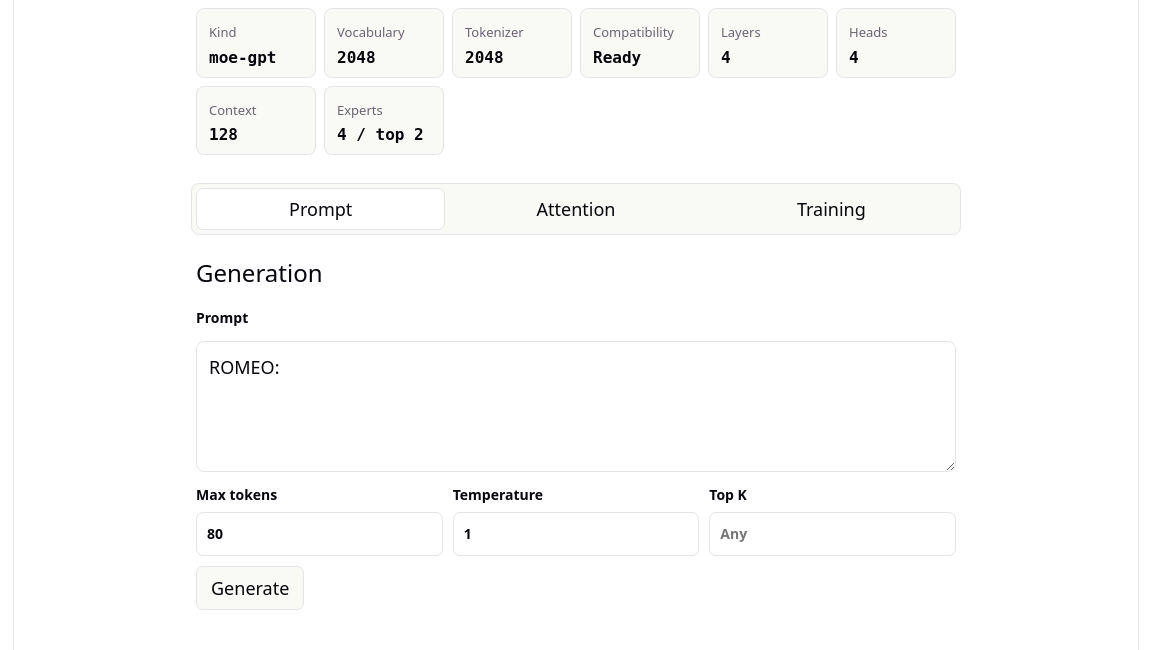
Test: App generation flow › renders expert routing when the generation response includes MoE data
(page scrolled)
Expected: the text "4 / top 2" is shown, [337,125,431,144]
Step 1. Click the button "Generate" → coordinates (250, 588), box [196,566,304,610]
(page scrolled)
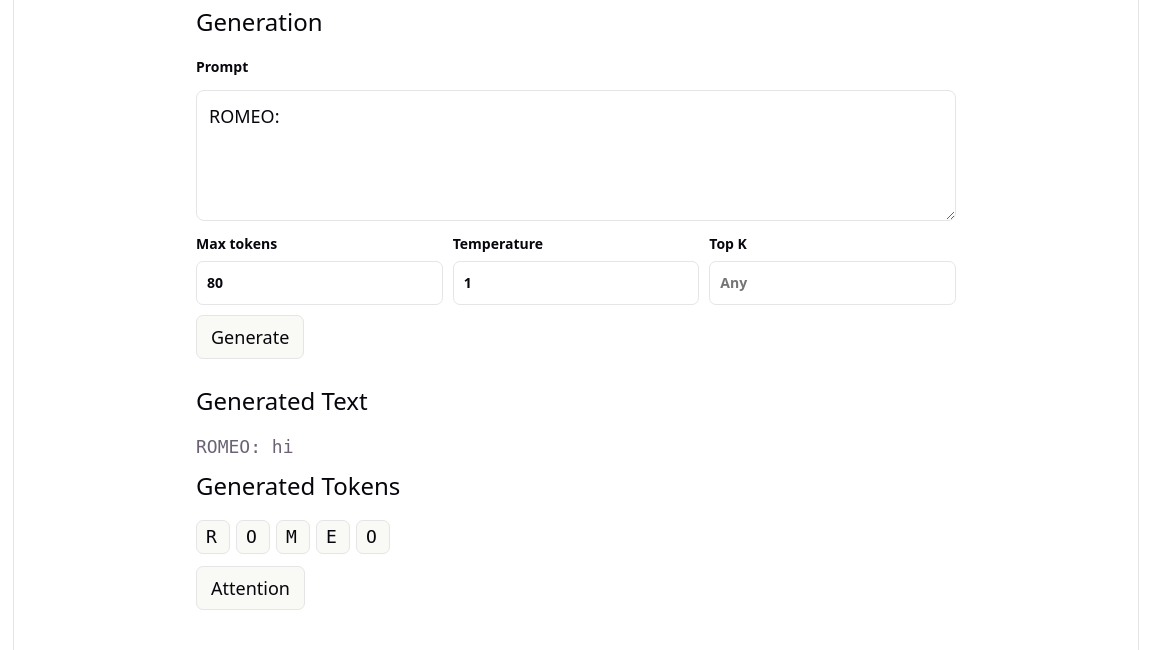
Result: the text "ROMEO: hi" is shown at [196,436,294,457]
Step 2. Click the button "Attention" → coordinates (250, 588), box [196,566,305,610]
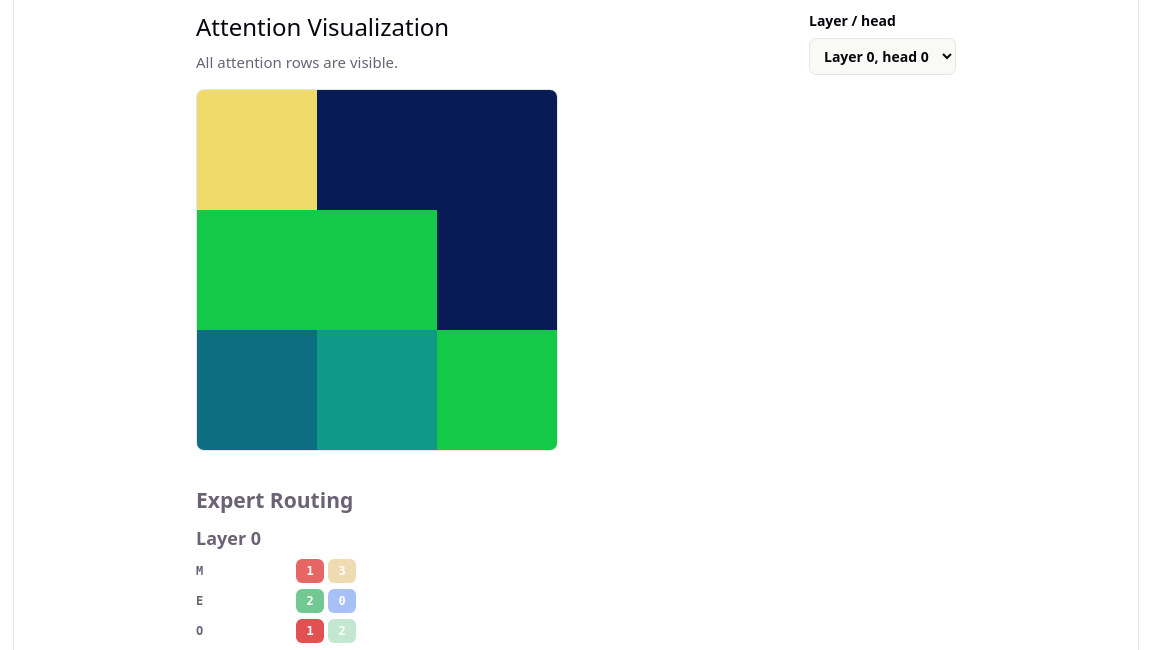
Result: the heading "Expert Routing" is shown at [196,485,353,514]
Result: the picture named "expert routing for layer 0" is shown at [196,559,356,643]
Result: the text named "token 0 expert 1 weight 0.700" is shown at [296,559,324,583]
